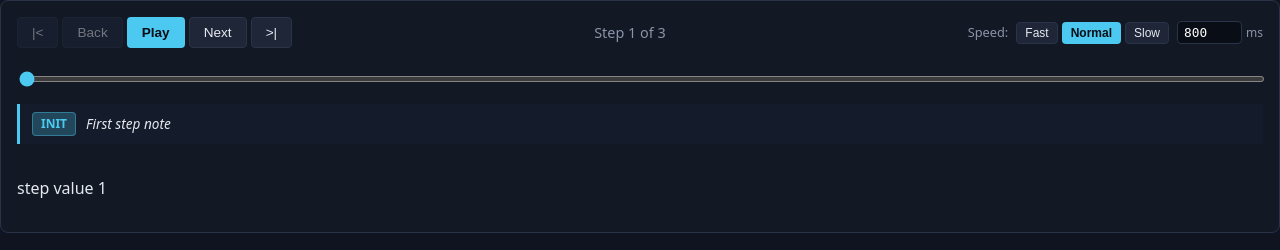
Test: StepPlayer component › scrubber range slider navigates to specific step
Set the slider named "Step progress slider" to "2": (1257, 79) [19,76,1265,82]
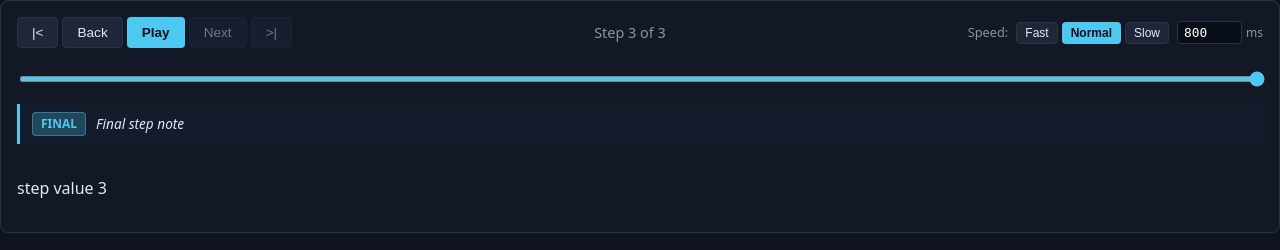
Expected: the text "step value 3" is shown, [17,177,107,199]
Expected: the text "Step 3 of 3" is shown, [594,22,666,43]
